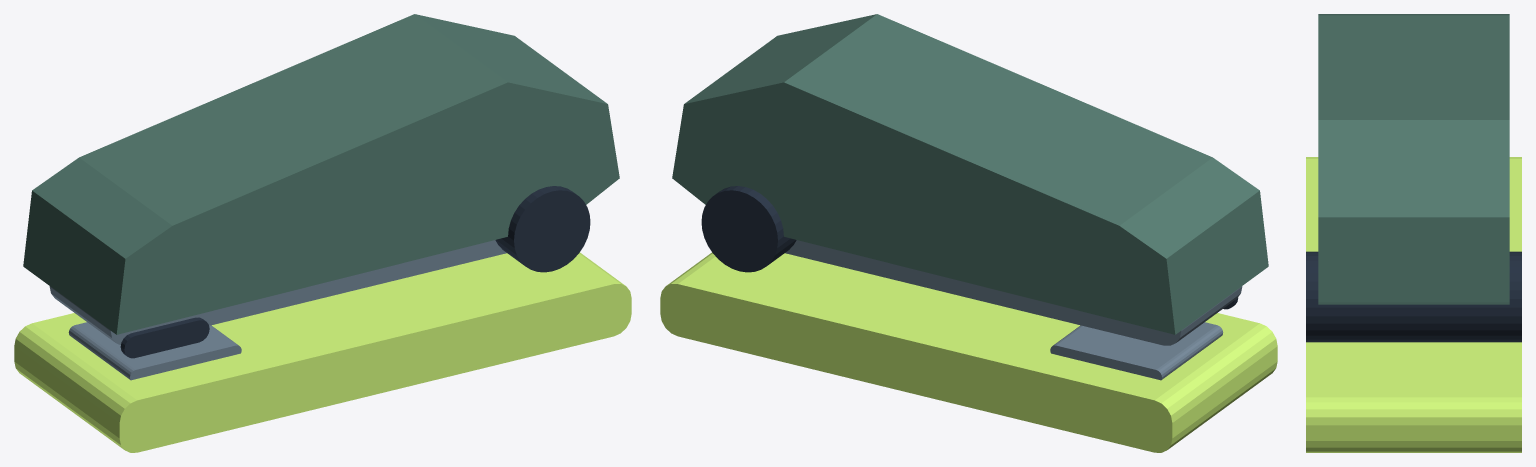
The model's file is nailer.glb.
3 views of the same model, side by side, from view 1: azimuth 30°, elevation 25°; view 2: azimuth 150°, elevation 25°; view 3: azimuth 270°, elevation 25° (orthographic). The views are drawn at different scales.
Visible parts, largest first — view 1: lever, base, hinge, magazine, anvil, paper notch; view 2: lever, base, magazine, hinge, anvil; view 3: lever, base, hinge.
Part boxes in pixels (x1,y1,x2,y2): lever: [23, 14, 619, 334]; base: [14, 252, 631, 452]; hinge: [495, 186, 590, 272]; magazine: [49, 240, 506, 345]; anvil: [68, 322, 241, 380]; paper notch: [120, 317, 209, 358]; lever: [672, 14, 1268, 334]; base: [660, 252, 1277, 452]; magazine: [785, 240, 1242, 345]; hinge: [701, 186, 796, 272]; anvil: [1050, 322, 1223, 380]; lever: [1318, 14, 1509, 304]; base: [1306, 157, 1521, 452]; hinge: [1306, 251, 1521, 342].
Bounding box in the file's own units: 1.74 × 0.89 × 0.62.
